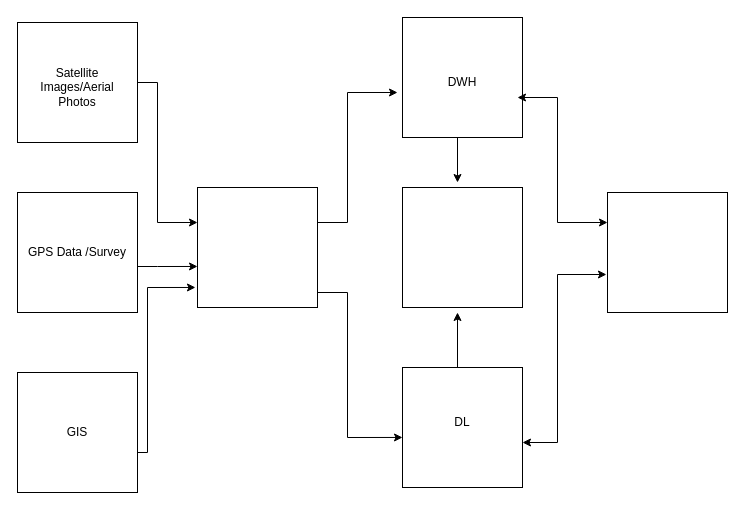
The diagram is 745 pixels wide and 510 high, and some of its shapes have lost their labels. Each missing label, with the centre of its shape:
Data Insights: pixel 462 247
UI: pixel 667 252
Workflows for Ingestion and data tranfornation: pixel 257 247
